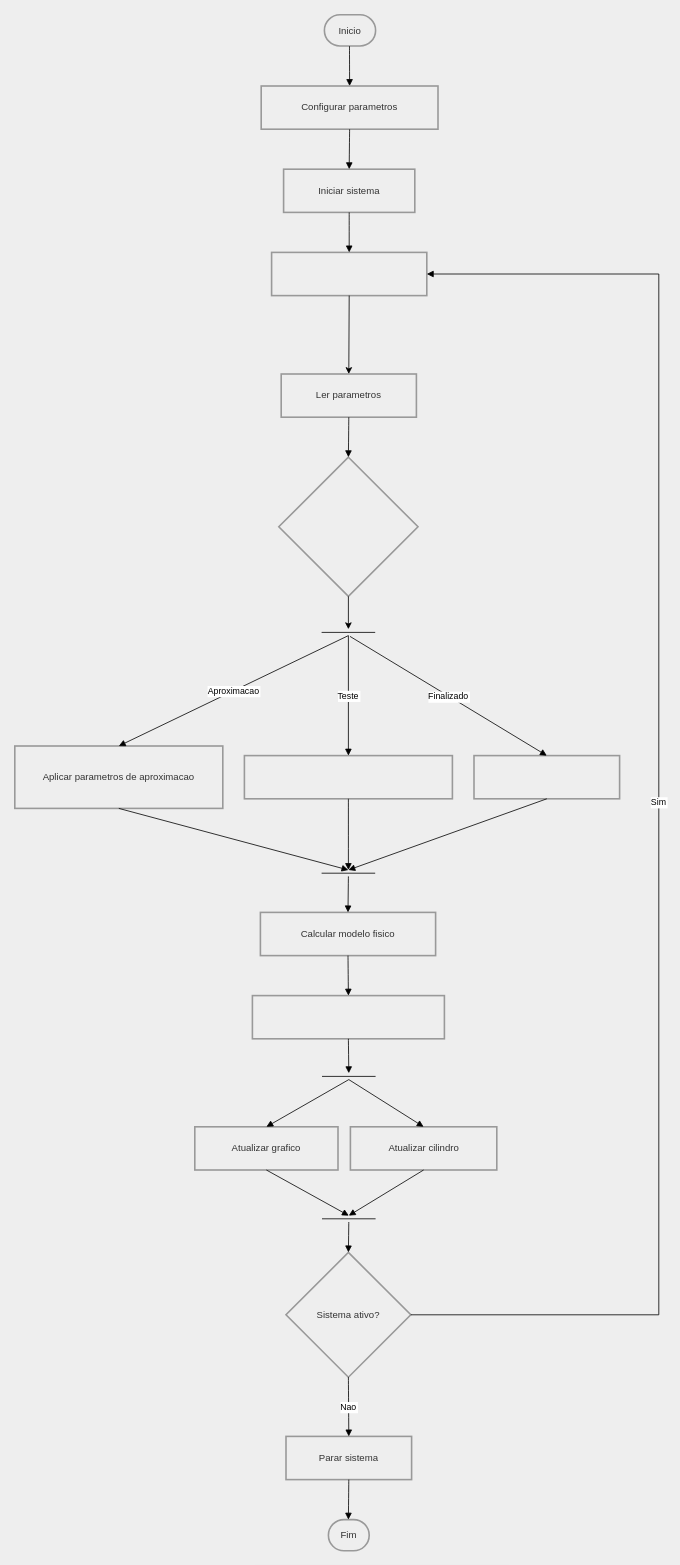
Image size: 680x1565. Some labels were removed from this diagram. Each missing label, with the box of its shape:
Aplicar ruido de sensores: (251, 994, 445, 1039)
Controle manual de pressao: (243, 754, 453, 799)
Estado do ensaio: (278, 456, 418, 597)
Execucao continua: (270, 251, 427, 296)
Parar movimento: (473, 754, 620, 799)
